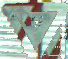Give way: (2, 2, 56, 48)
